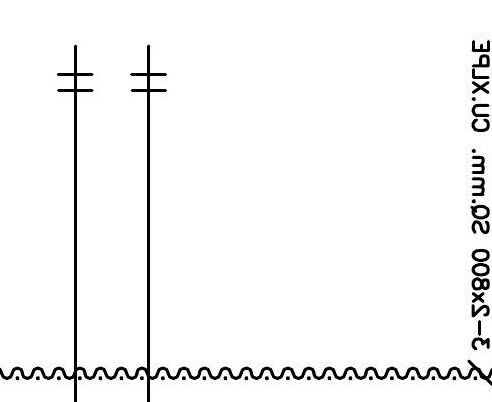115_buffer: (130, 73, 167, 92), (57, 73, 94, 92)
